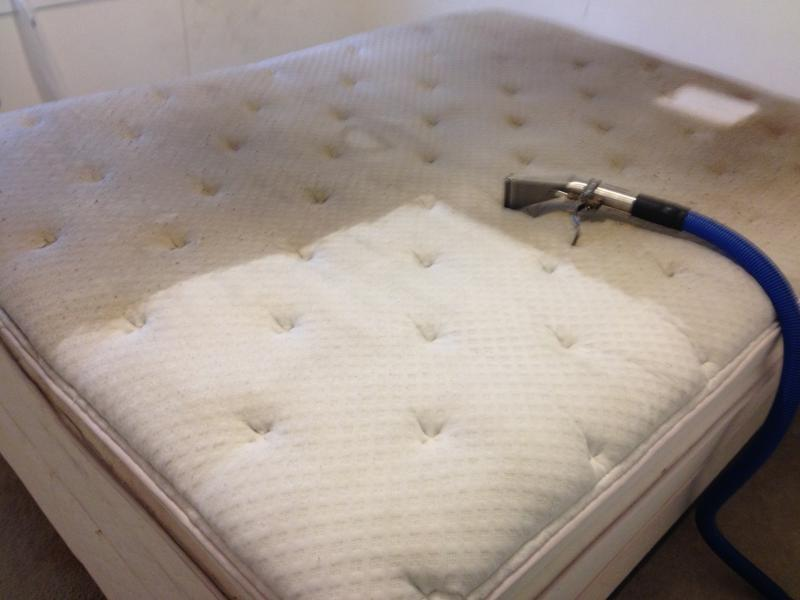Bed-Mattress: (0, 12, 800, 599)
